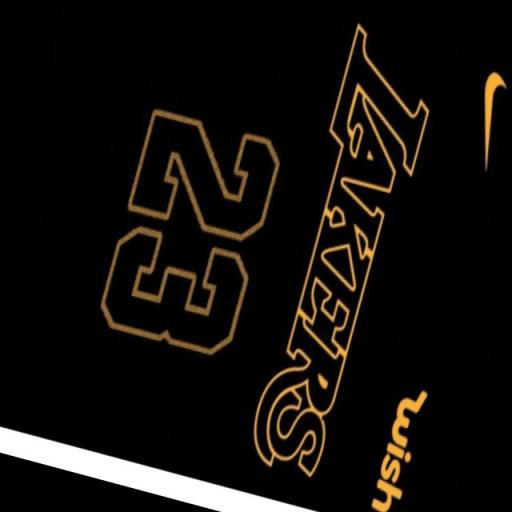Nike: (455, 58, 512, 173)
